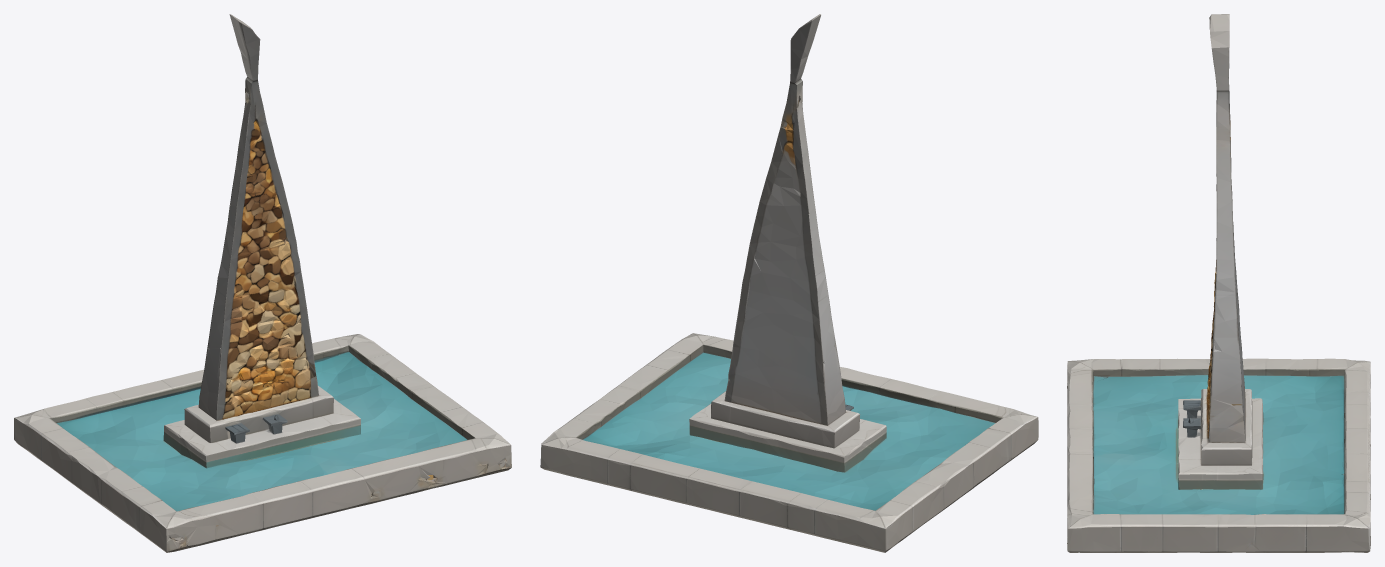
Rendered from Banco_B.glb.
The picture shows the model from 3 angles, left to right: view 1: azimuth 30°, elevation 25°; view 2: azimuth 150°, elevation 25°; view 3: azimuth 270°, elevation 25°; orthographic projection.
Parts seen in each view (by area): view 1: world; view 2: world; view 3: world.
Boxes of the visible parts, box(x1,y1,x2,y2) form: world: box(14, 14, 511, 552); world: box(540, 14, 1038, 552); world: box(1067, 14, 1370, 552).
Size of the model in its own units: 0.8089 by 1 by 0.619.
1 material, 1 textured.
